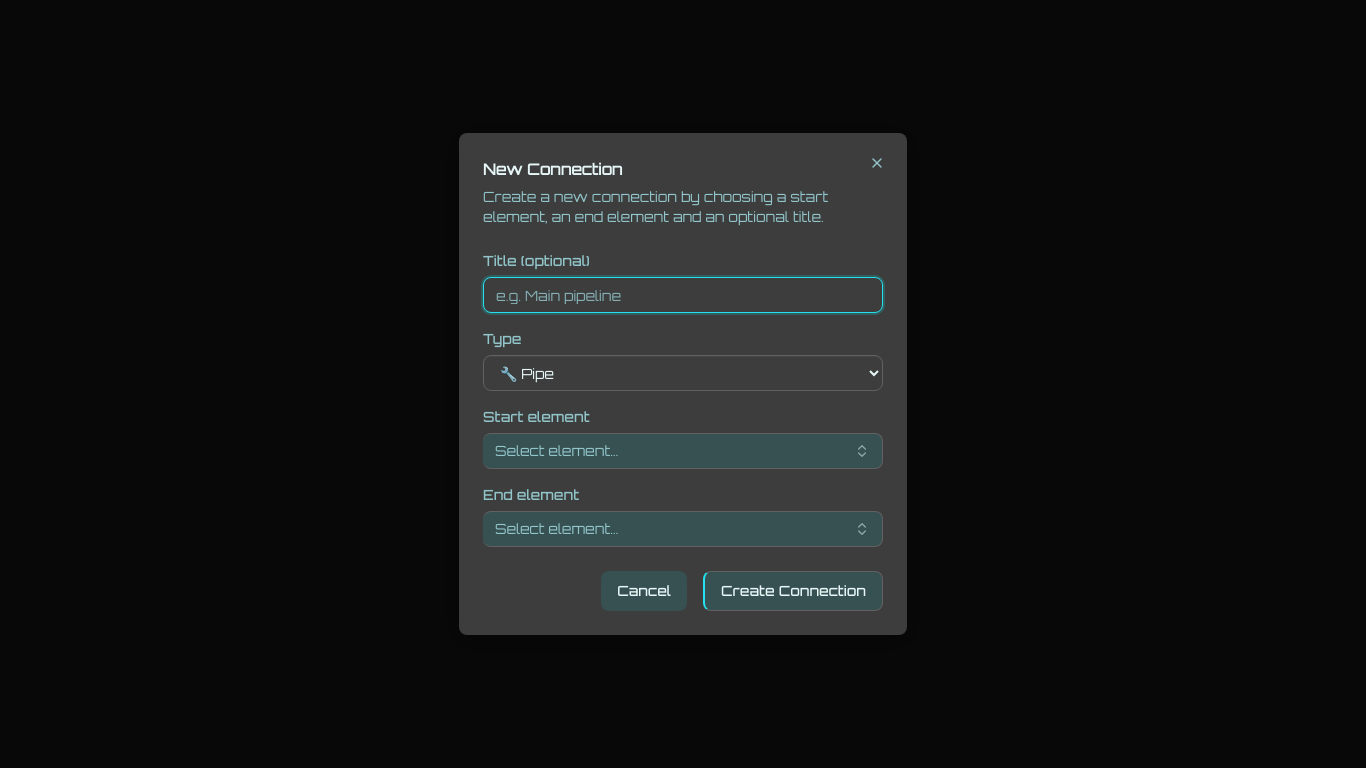
Test: CreateConnectionDialog › shows error for duplicate connection (bidirectional)
Click the 1st dropdown labelled "Select element…": (557, 450) [483, 433, 883, 469]
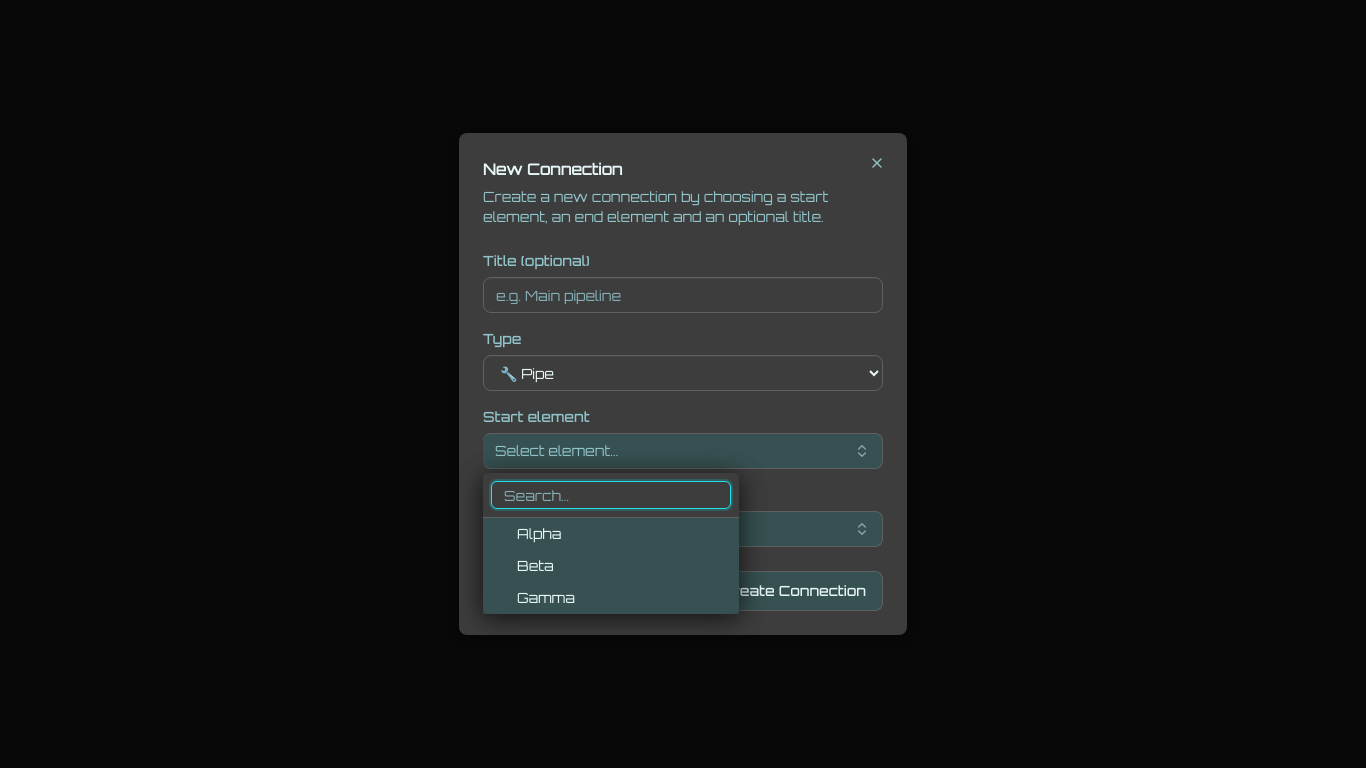
Click the button "Alpha": (611, 534) [483, 518, 739, 550]
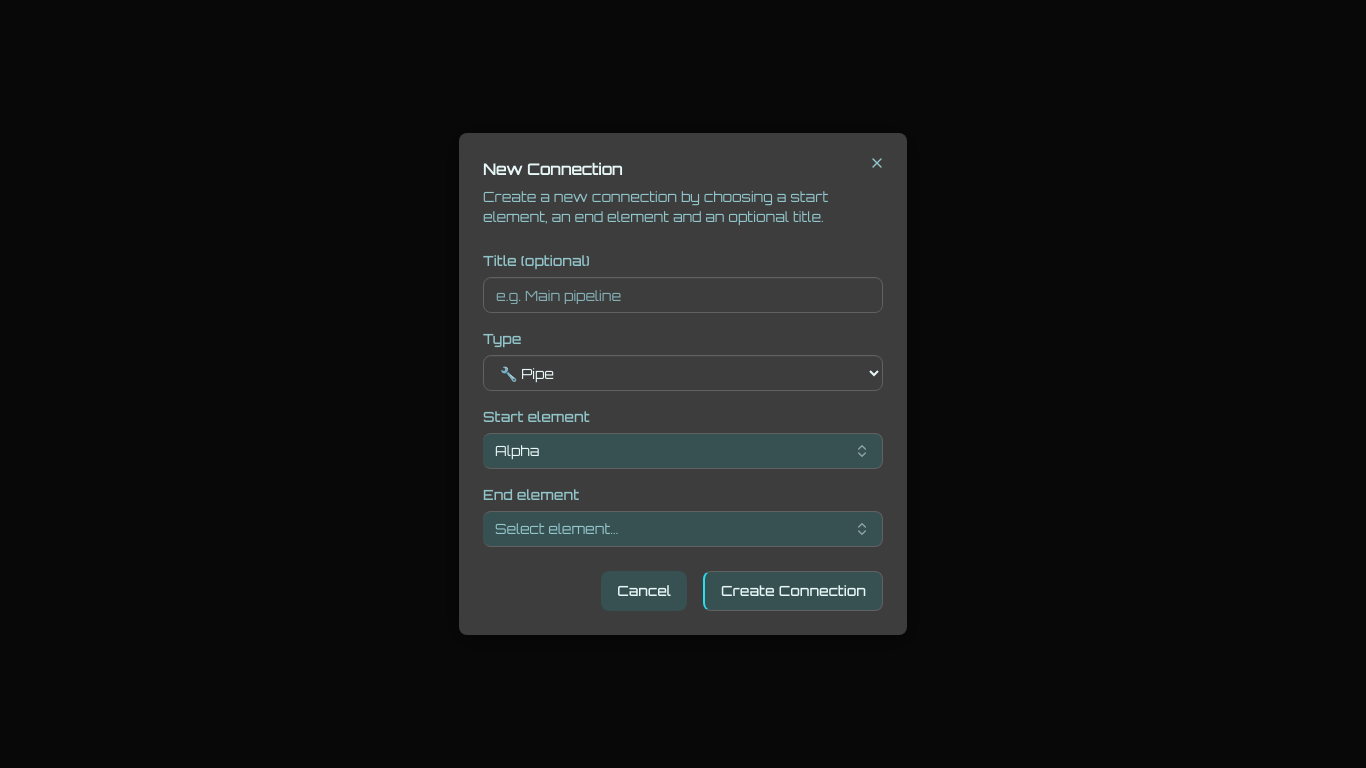
Click the dropdown labelled "Select element…": (557, 528) [483, 511, 883, 547]
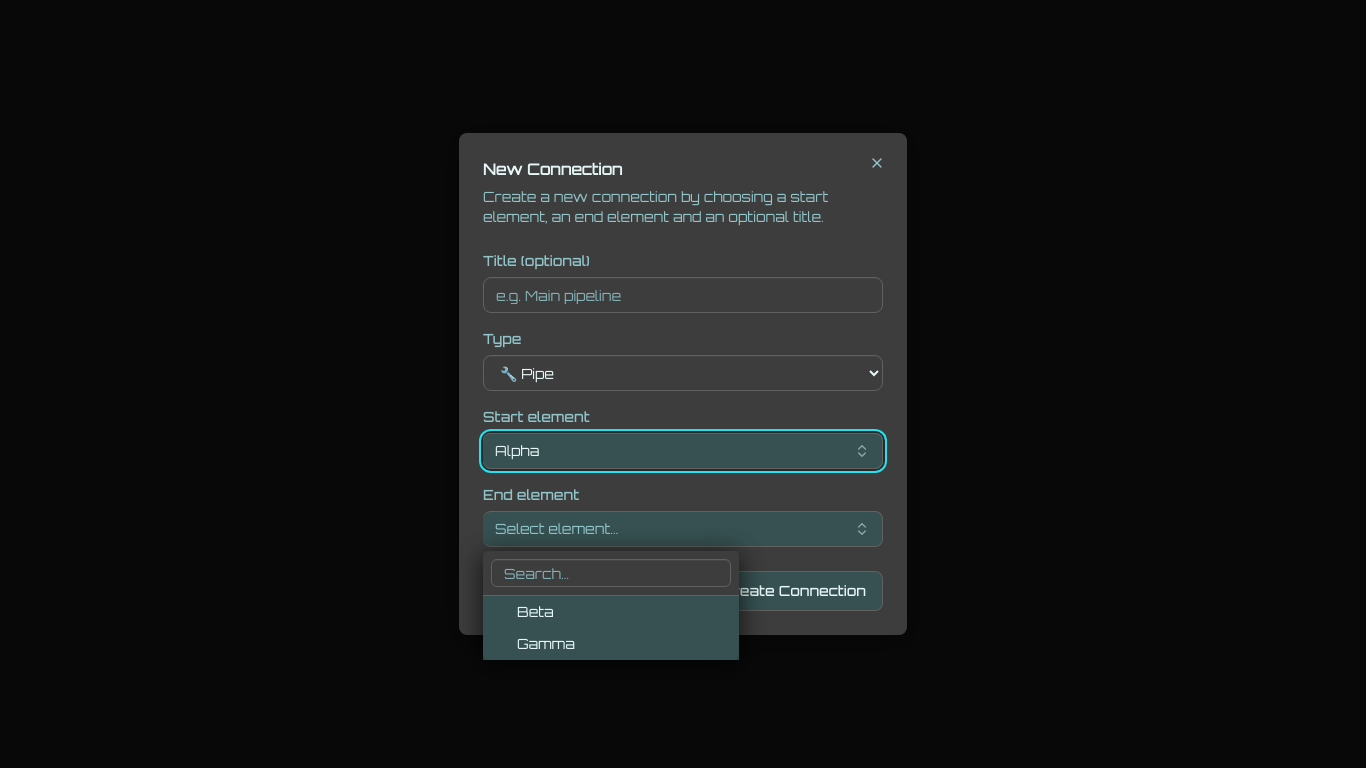
Click the button "Beta": (611, 612) [483, 596, 739, 628]
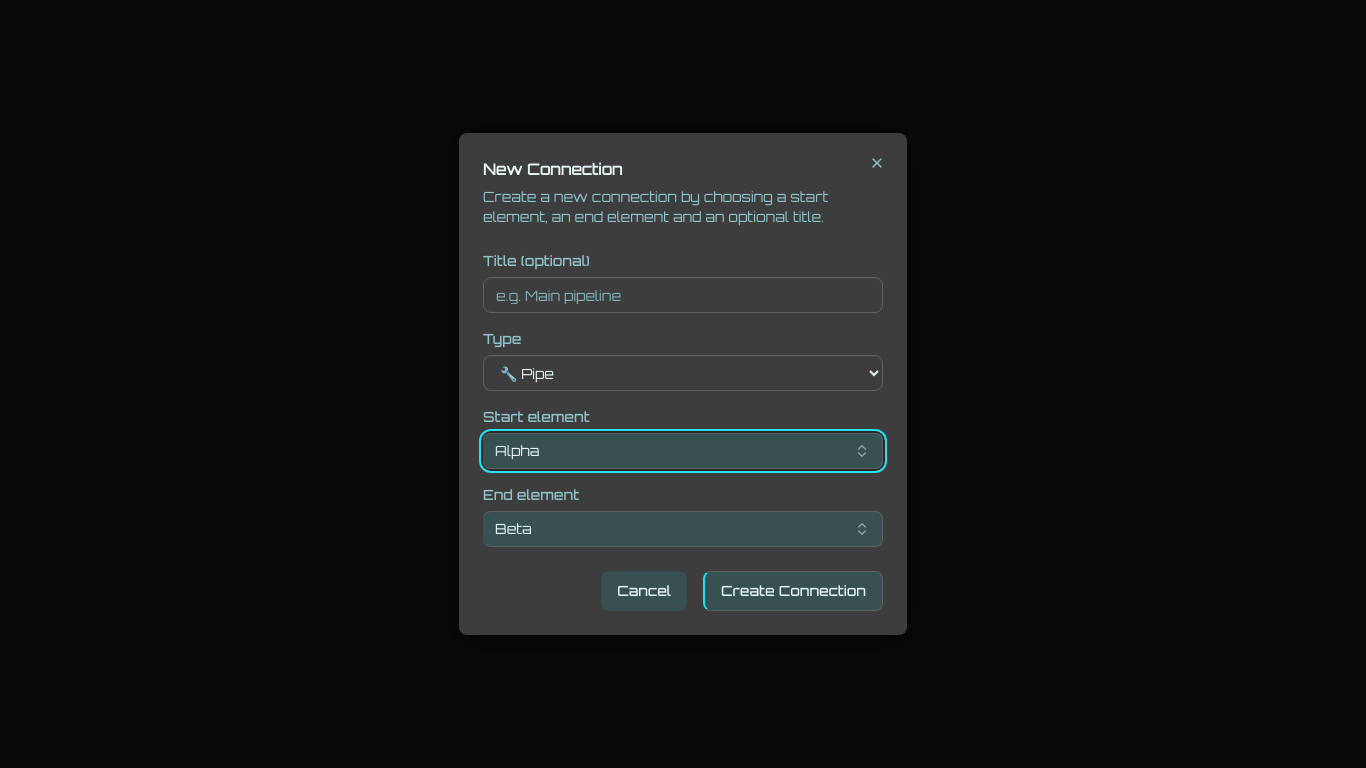
Click the button "Create Connection": (793, 591) [703, 571, 883, 611]
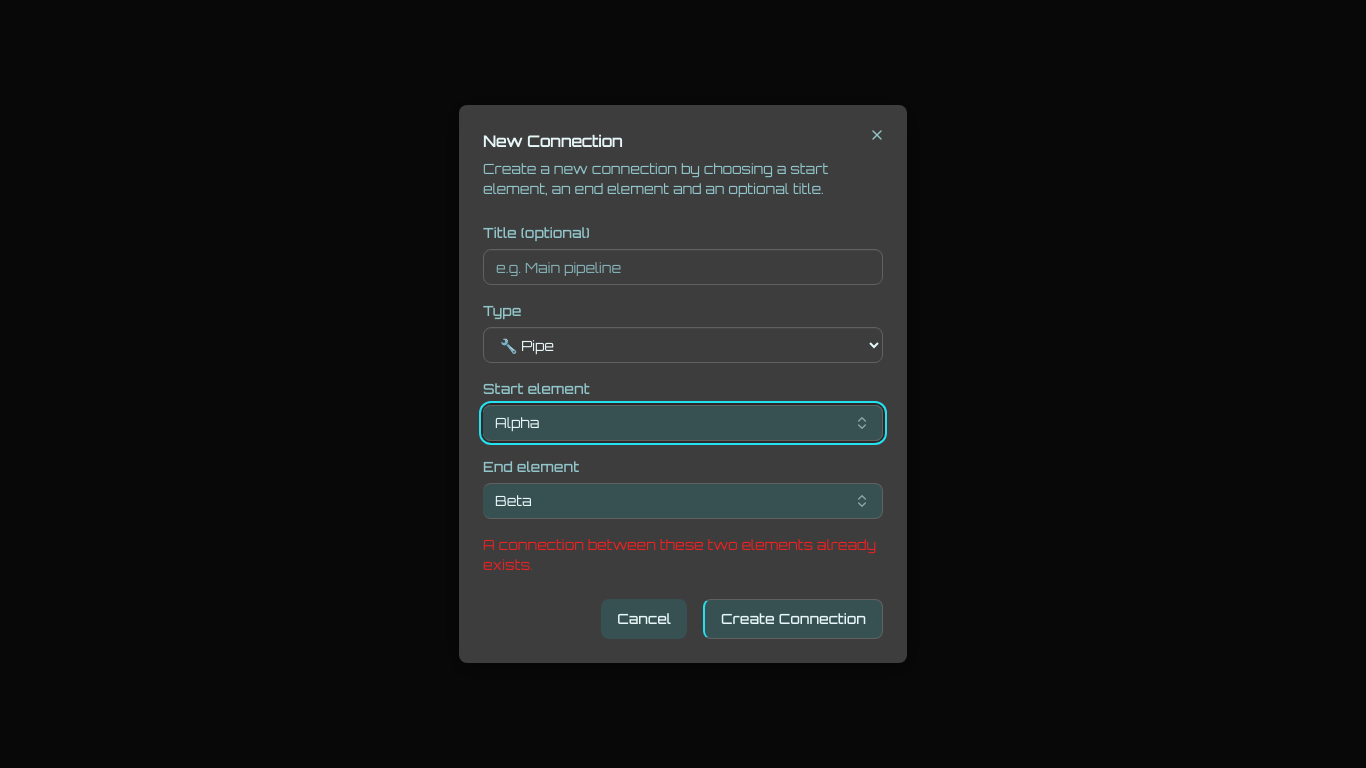
Now the text "A connection between these two elements already exists." is shown, box [483, 535, 883, 575]
